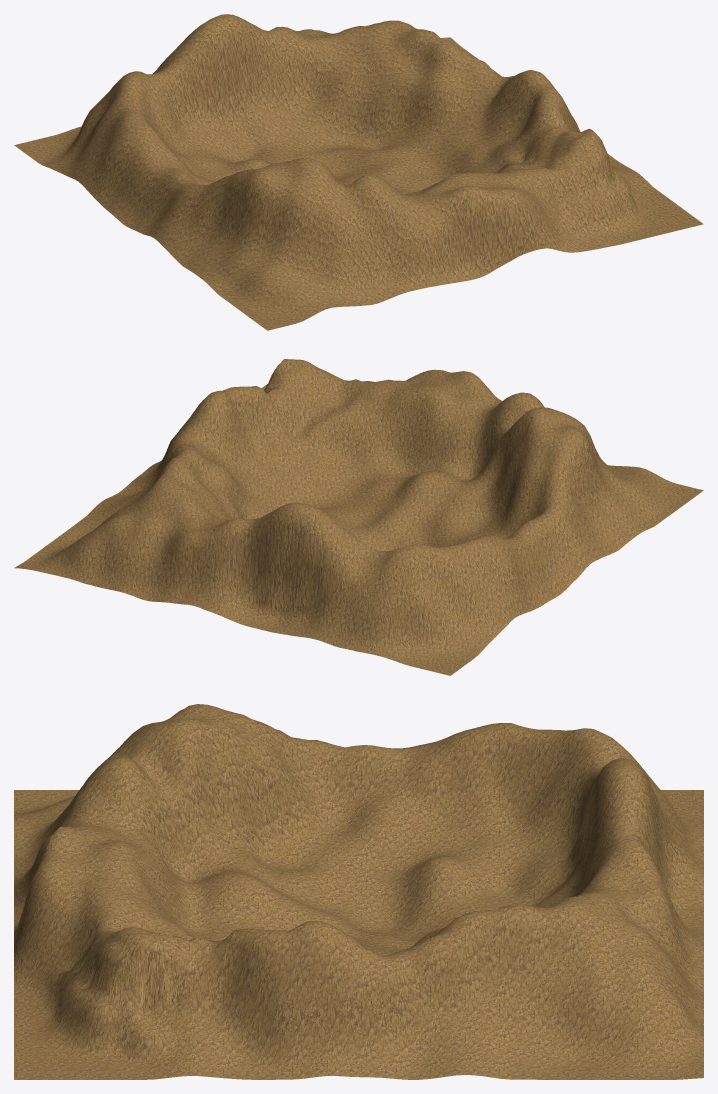
The model's file is MapGround.FBX.
3 views of the same model, one above another, from view 1: azimuth 30°, elevation 25°; view 2: azimuth 150°, elevation 25°; view 3: azimuth 270°, elevation 25° (orthographic). The views are drawn at different scales.
Visible parts, largest first — view 1: Plane002; view 2: Plane002; view 3: Plane002.
Boxes of the visible parts, box(x1,y1,x2,y2) form: Plane002: box(14, 14, 703, 330); Plane002: box(14, 359, 703, 675); Plane002: box(14, 704, 703, 1079).
Bounding box in the file's own units: 191577 × 192682 × 51126.
1 material, 1 textured.
